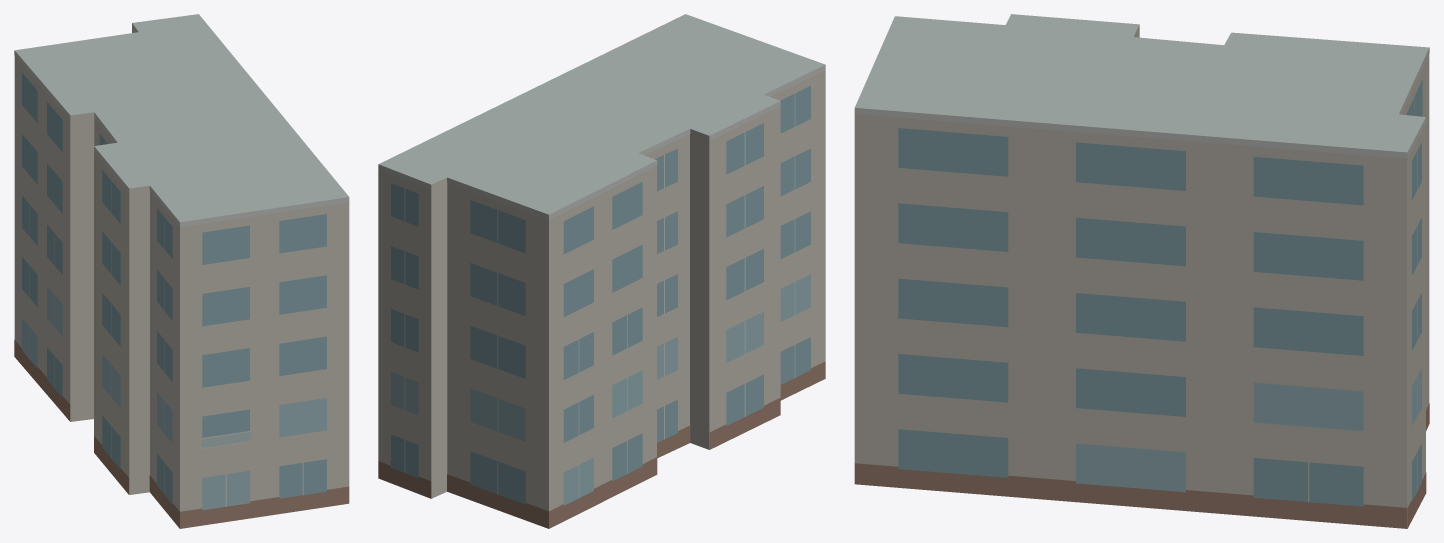
The model's file is survey-upis-32674712.glb.
3 views of the same model, side by side, from view 1: azimuth 30°, elevation 25°; view 2: azimuth 150°, elevation 25°; view 3: azimuth 270°, elevation 25° (orthographic). The views are drawn at different scales.
Visible parts, largest first — view 1: survey-upis-32674712.tmp; view 2: survey-upis-32674712.tmp; view 3: survey-upis-32674712.tmp.
Boxes of the visible parts, left/top/right/bottom form: survey-upis-32674712.tmp: left=14, top=14, right=349, bottom=528; survey-upis-32674712.tmp: left=378, top=14, right=825, bottom=528; survey-upis-32674712.tmp: left=854, top=14, right=1429, bottom=528.
Bounding box in the file's own units: 11.42 × 14.47 × 20.03.
